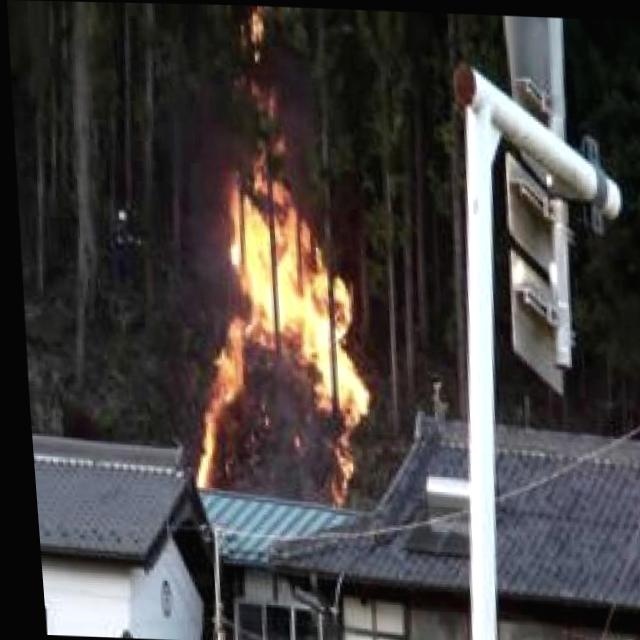helmet: (168, 77, 362, 497)
